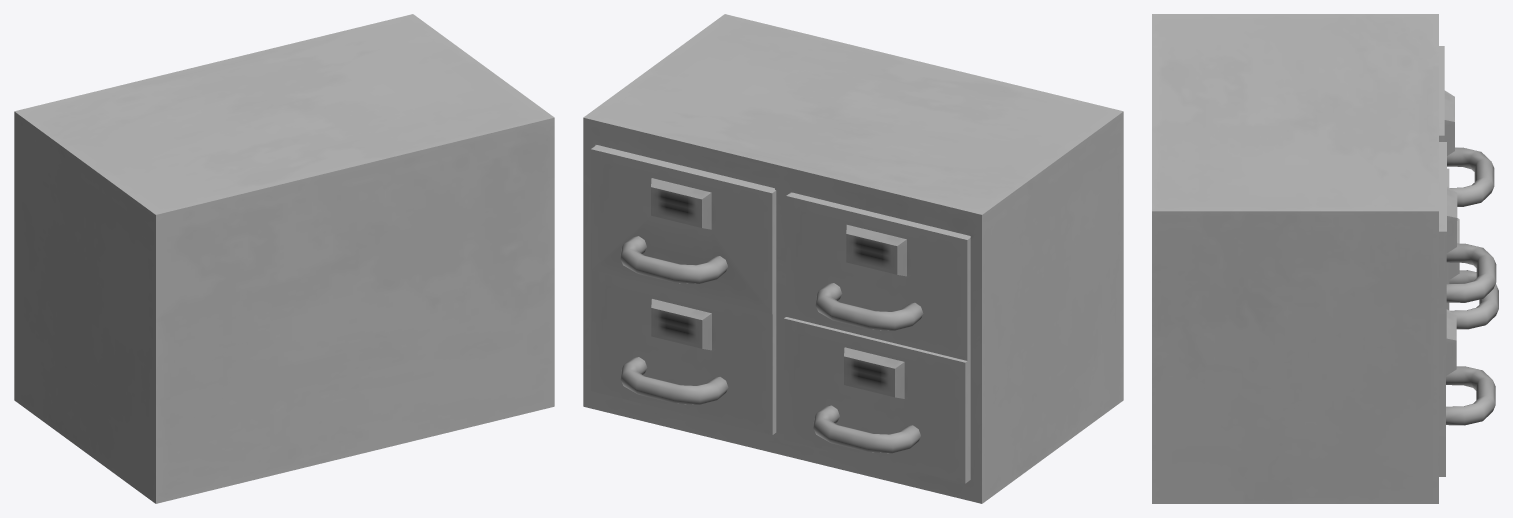
File: Pfb_FileCabient_S3.fbx
3 renders of one model, left to right at view 1: azimuth 30°, elevation 25°; view 2: azimuth 150°, elevation 25°; view 3: azimuth 270°, elevation 25°, orthographic.
Parts seen in each view (by area): view 1: Mat_FileCabient; view 2: Mat_FileCabient; view 3: Mat_FileCabient.
Boxes of the visible parts, <box> form: Mat_FileCabient: <box>14,14,554,503</box>; Mat_FileCabient: <box>583,14,1123,503</box>; Mat_FileCabient: <box>1152,14,1498,503</box>.
Size of the model in its own units: 1.25 by 0.8656 by 0.9292.
Materials: 1 (1 with a texture image).
